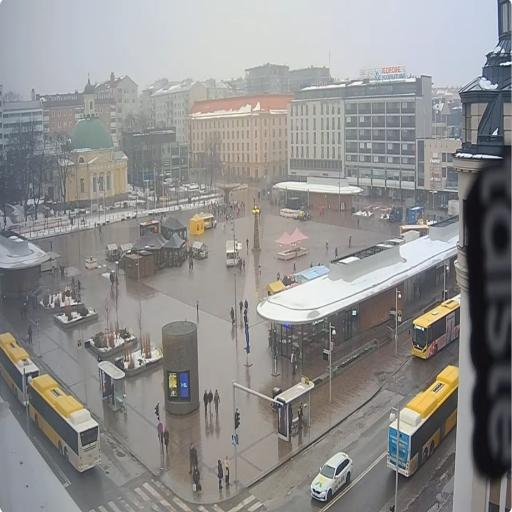Bus: (387, 365, 458, 477), (28, 375, 100, 471), (412, 294, 460, 359), (0, 332, 39, 406)
